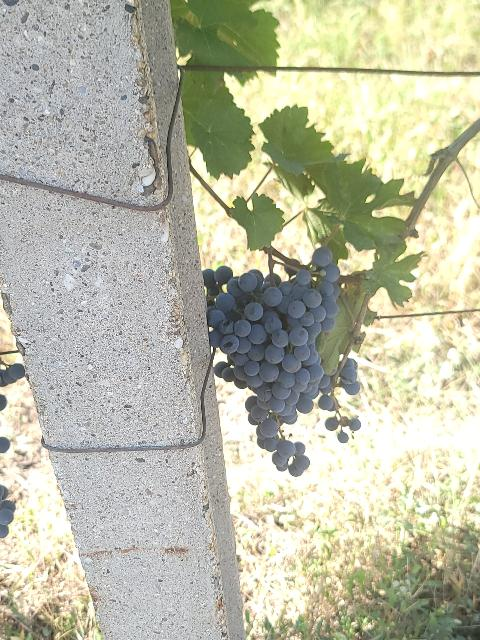grapes: (202, 246, 339, 476)
